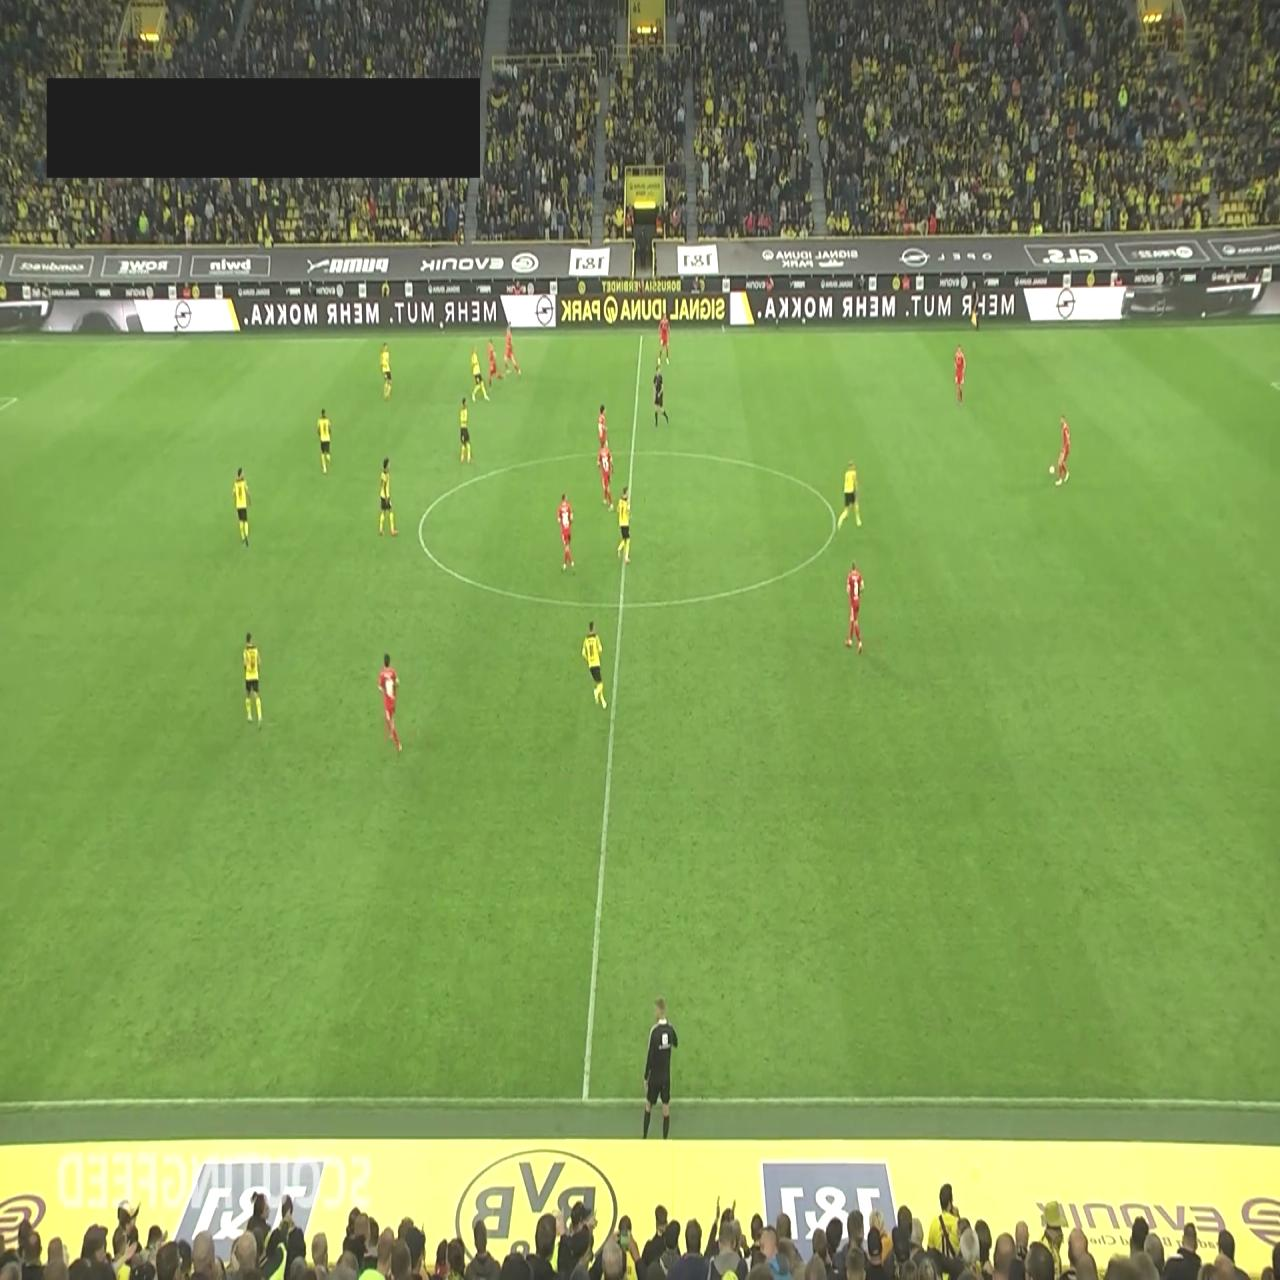ball: (1048, 463, 1056, 477)
player: (377, 652, 403, 756), (582, 618, 608, 708), (242, 632, 263, 729), (845, 560, 865, 654), (377, 456, 399, 537), (837, 458, 862, 528), (232, 466, 252, 548), (558, 492, 576, 571), (615, 485, 631, 564), (597, 404, 614, 472), (598, 438, 614, 508), (471, 345, 490, 402), (1056, 414, 1071, 486), (317, 407, 332, 474), (503, 325, 521, 378), (458, 396, 472, 463), (379, 342, 393, 399), (487, 340, 502, 388), (954, 345, 966, 404), (658, 313, 671, 366)
referee: (653, 365, 670, 428), (968, 277, 980, 328)
